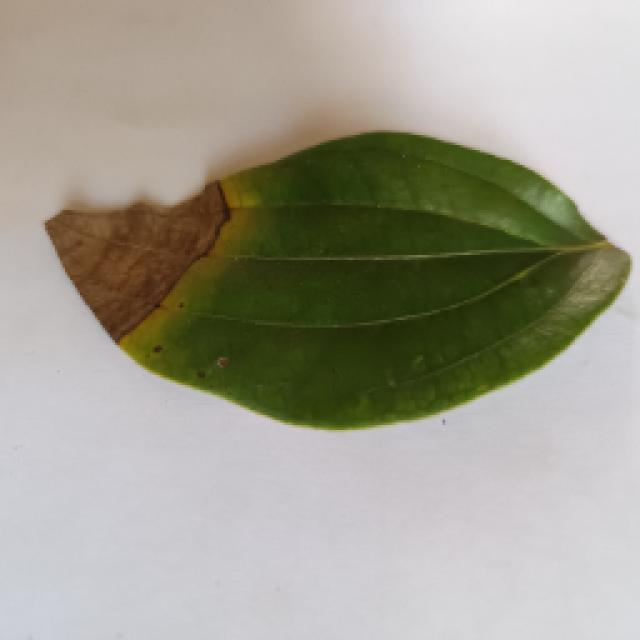footrot: (30, 115, 628, 447)
